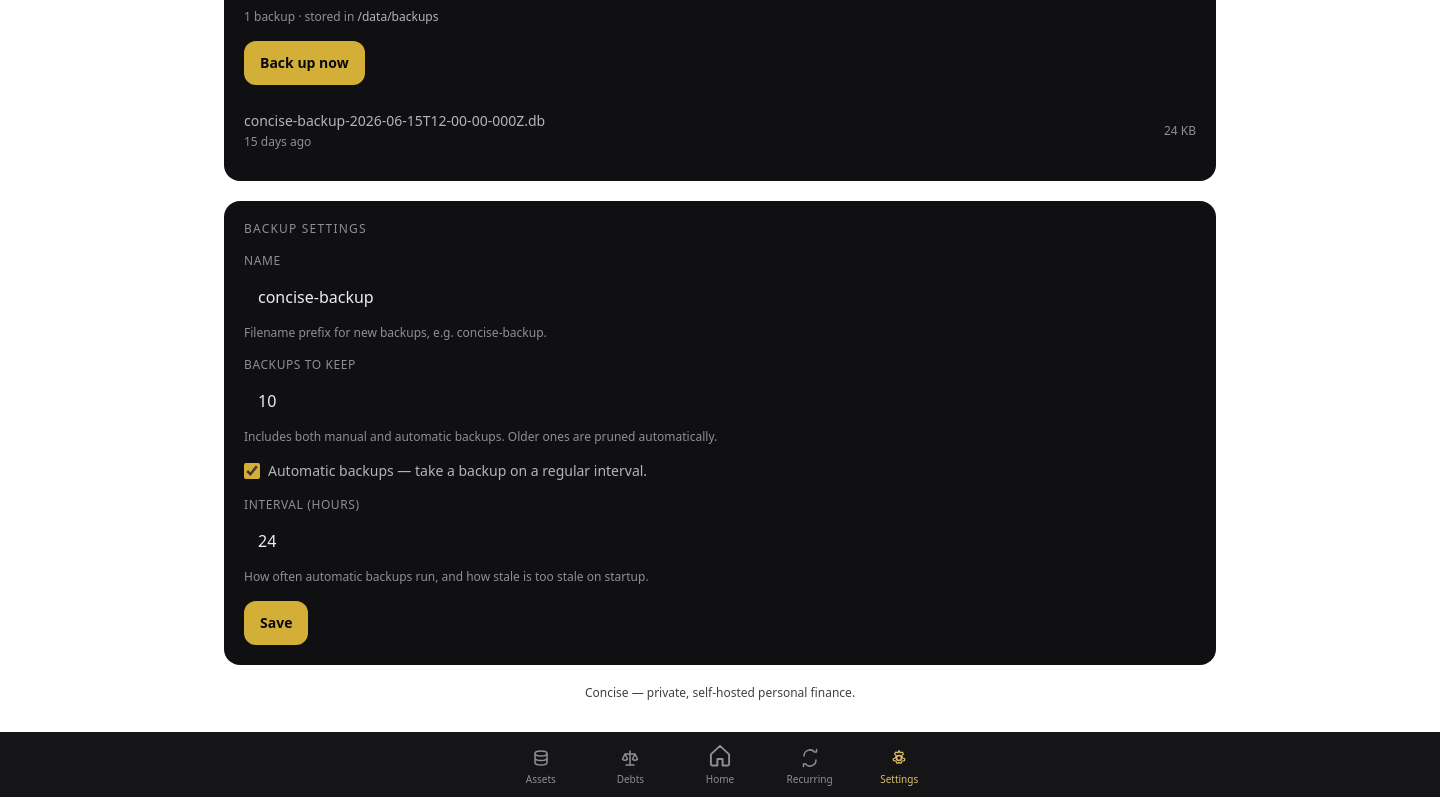
Scenario: backup settings sub page › saves changed settings
(page scrolled)
Replace the text in the number field labelled "Backups to keep" with "5" at (720, 401), box 244,379 -> 1196,423
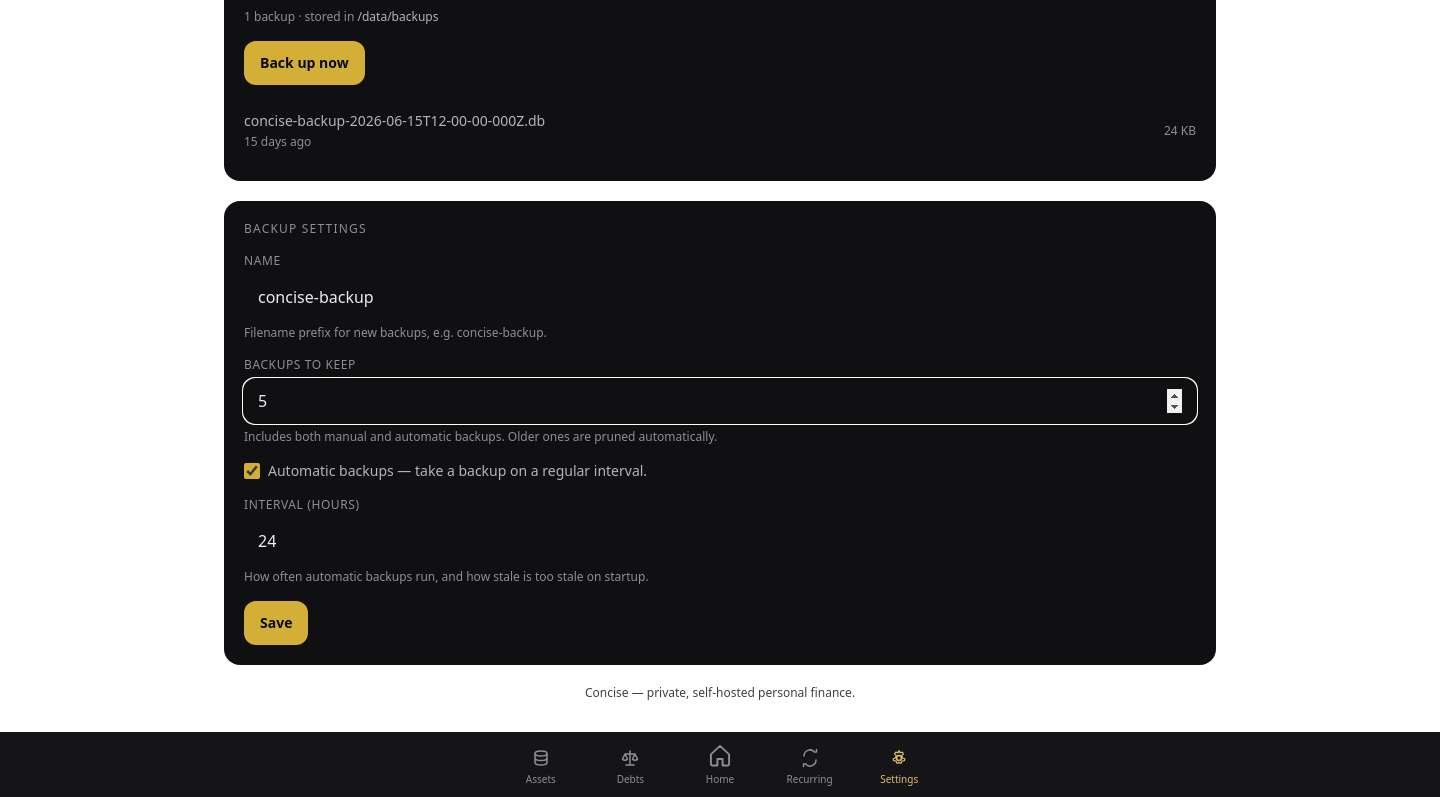
Click the button "Save" at (276, 623), box 244,601 -> 308,645
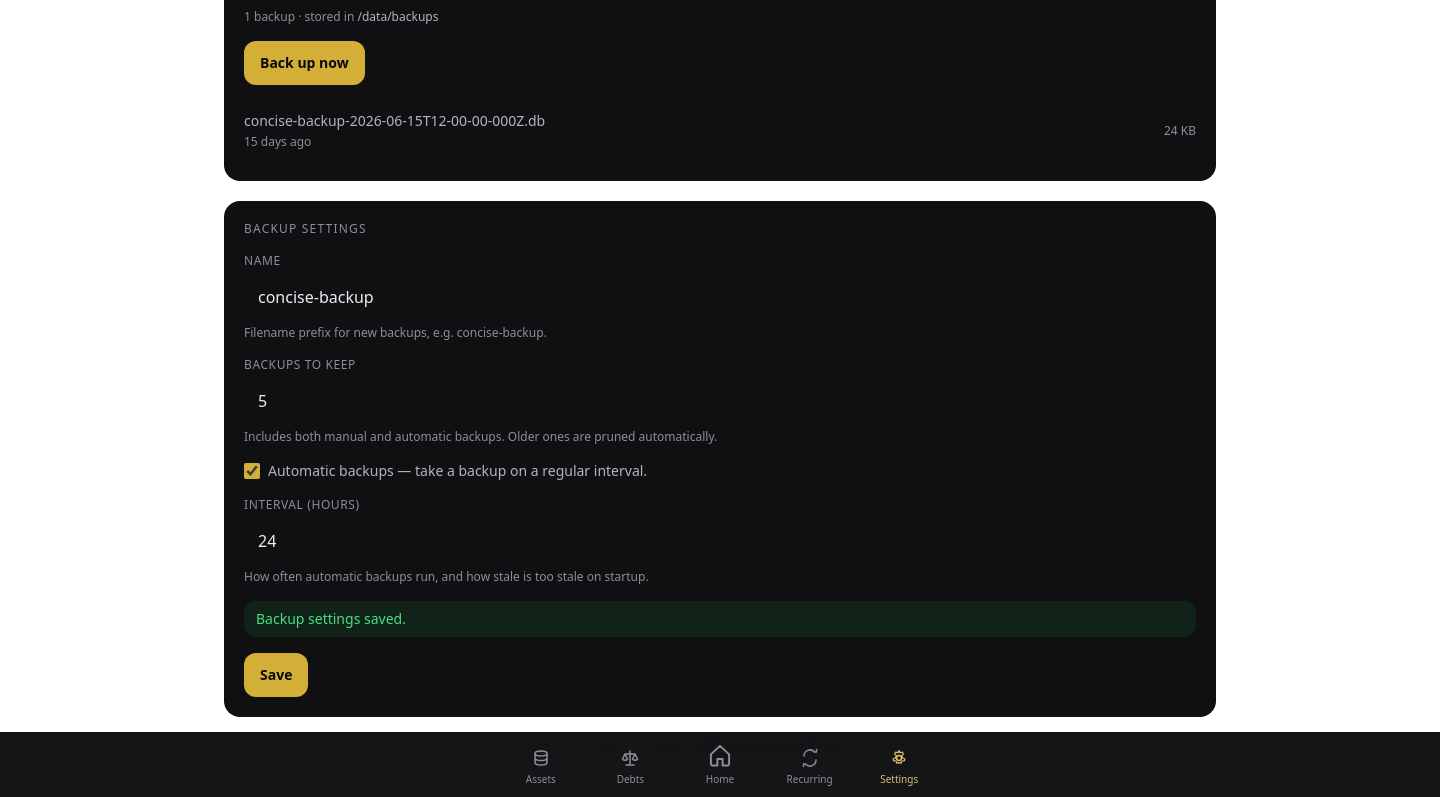
Now the text "Backup settings saved." is shown, box 244,601 -> 1196,637
